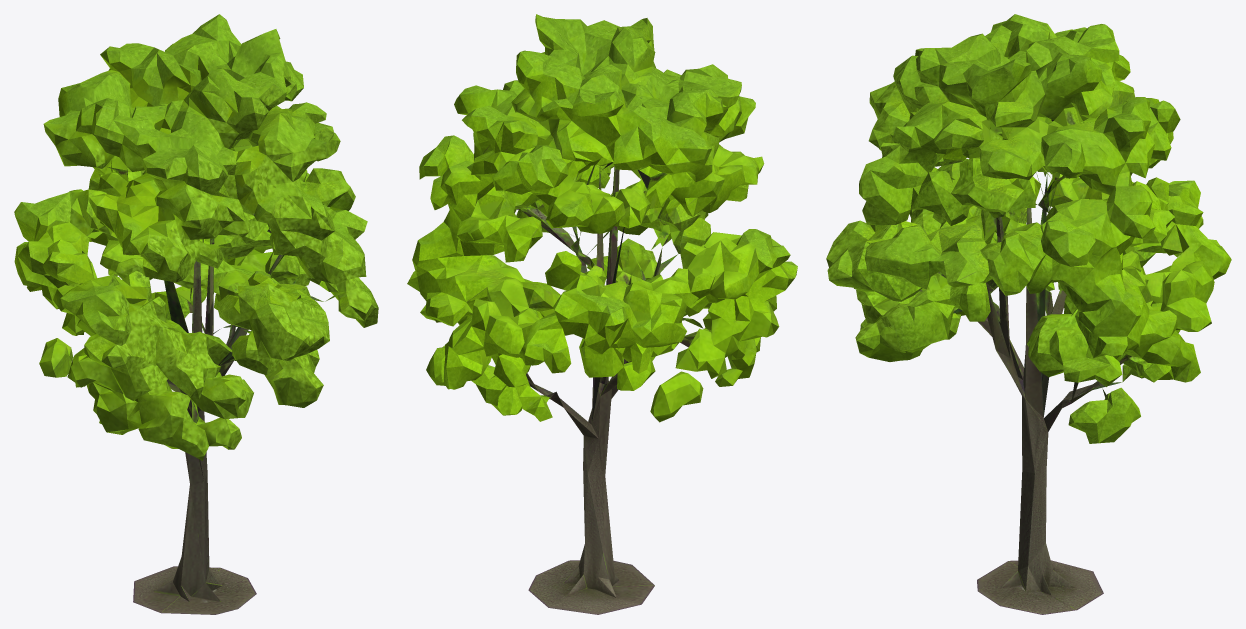
The model's file is zelkova.glb.
The picture shows the model from 3 angles, left to right: view 1: azimuth 30°, elevation 25°; view 2: azimuth 150°, elevation 25°; view 3: azimuth 270°, elevation 25°; orthographic projection. The views are drawn at different scales.
Size of the model in its own units: 1.11 by 1.88 by 1.23.
Materials: 1 (1 with a texture image).
